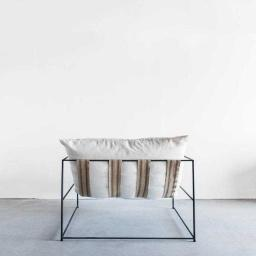Chair: (61, 140, 194, 241)
